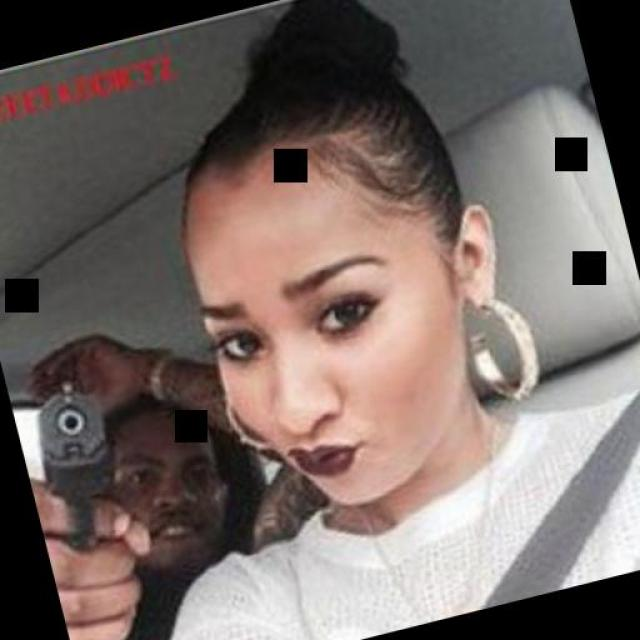gun: (9, 368, 135, 560)
